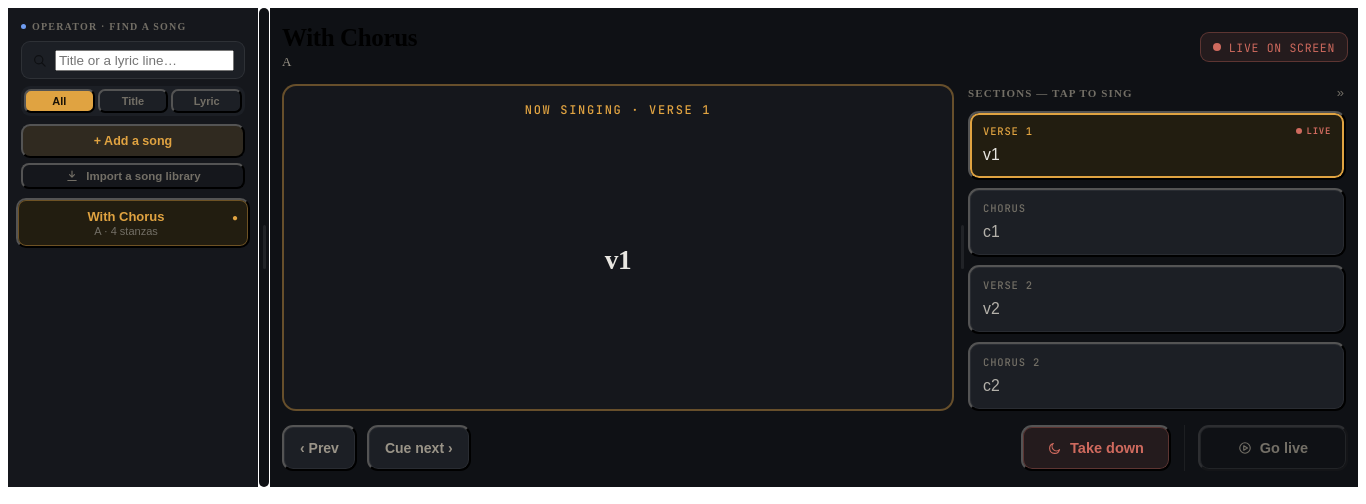
Scenario: SongsMode hotkey jumps › stepping sections while this song is live keeps Go live ghosted during the broadcast gap
This screenshot has width=1366, height=504.
expect the text "NOW SINGING · Verse 1" is shown: met, box [525, 102, 711, 118]
Click the button "Cue next ›".
click(419, 448)  # box [367, 425, 471, 471]
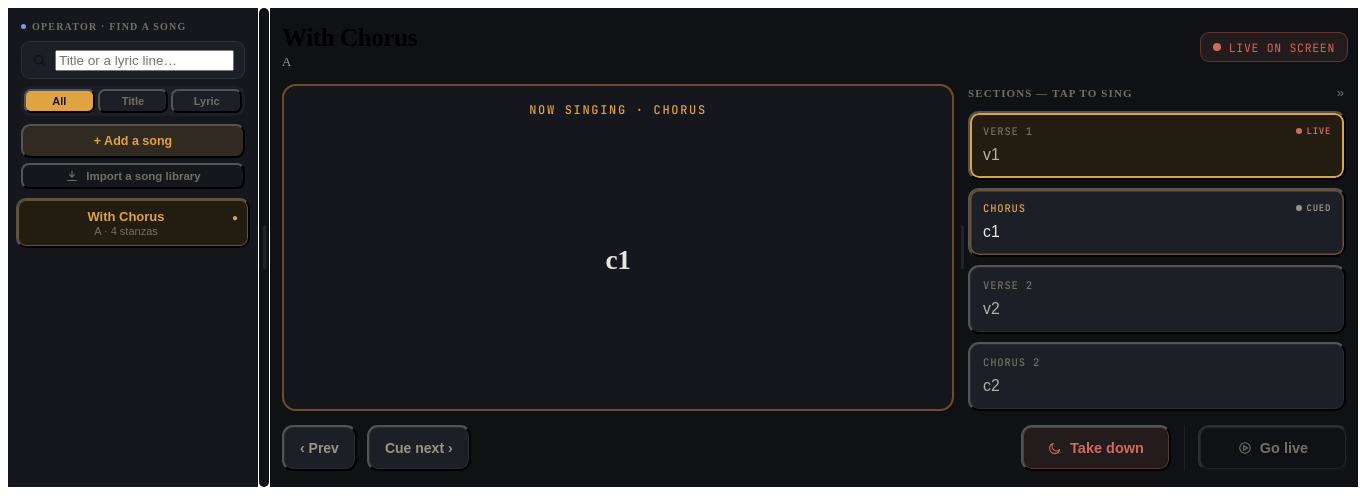
expect the button "Go live" is disabled: met, box [1198, 425, 1348, 471]
expect the text "NOW SINGING · Chorus" is shown: met, box [529, 102, 707, 118]
